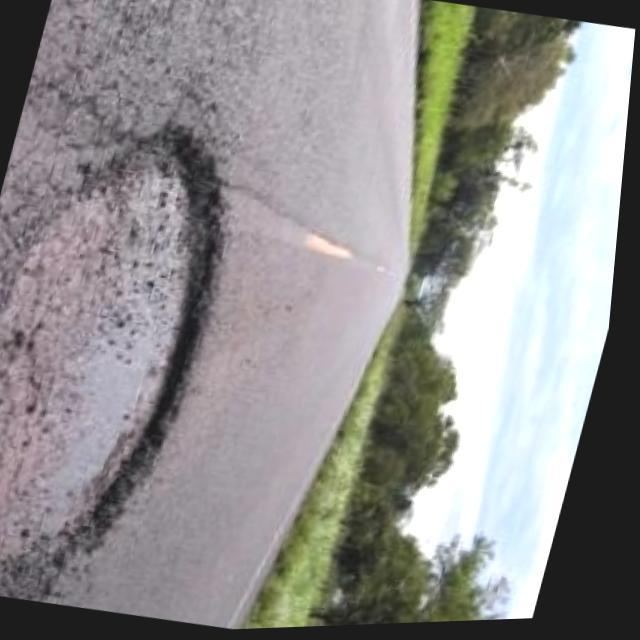pothole: (0, 91, 272, 622)
